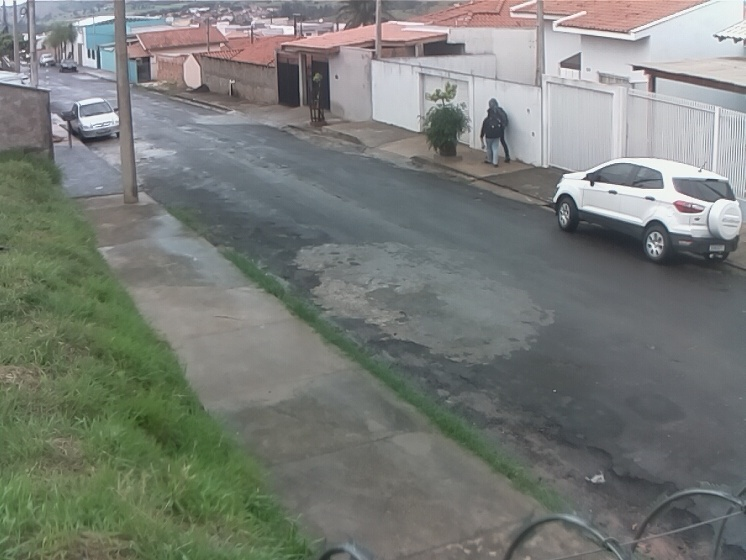person: (486, 98, 511, 164), (479, 107, 503, 168)
